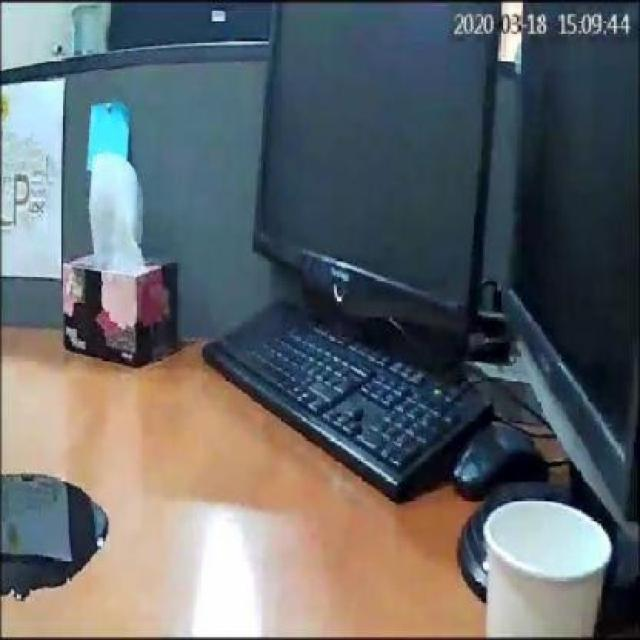spillage: (0, 473, 110, 600)
